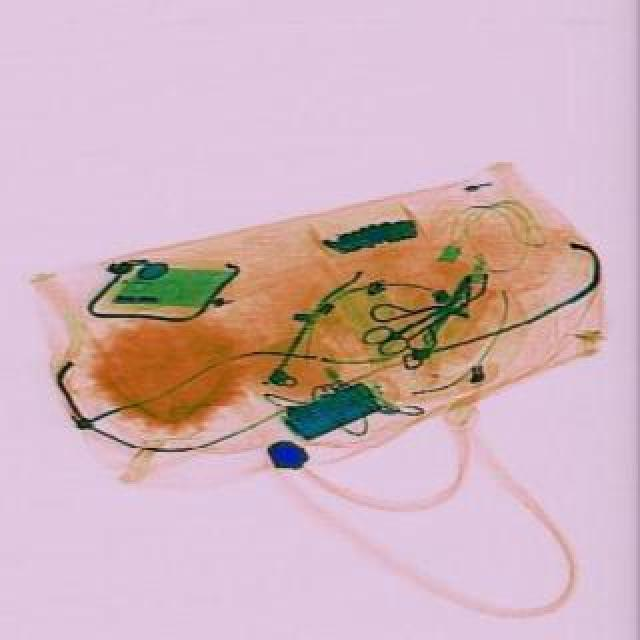pliers: (364, 286, 472, 368)
